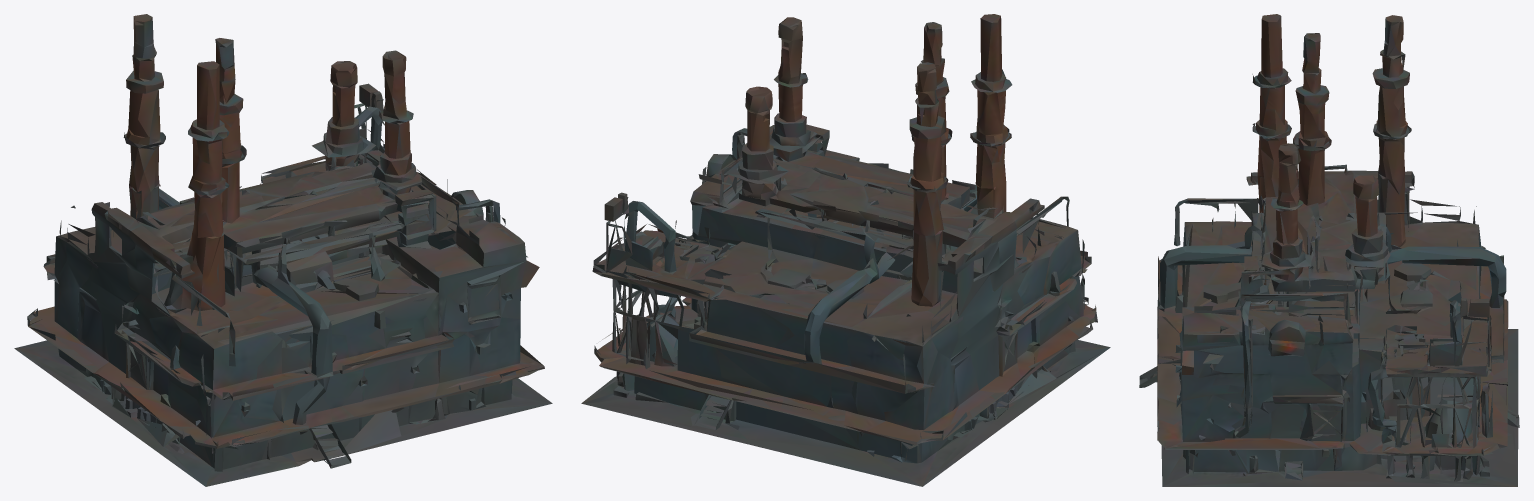
Rendered from mx_bld_factory.glb.
The picture shows the model from 3 angles, left to right: view 1: azimuth 30°, elevation 25°; view 2: azimuth 150°, elevation 25°; view 3: azimuth 270°, elevation 25°; orthographic projection. The views are drawn at different scales.
Size of the model in its own units: 1.86 by 1.82 by 1.85.
Materials: 1 (1 with a texture image).
